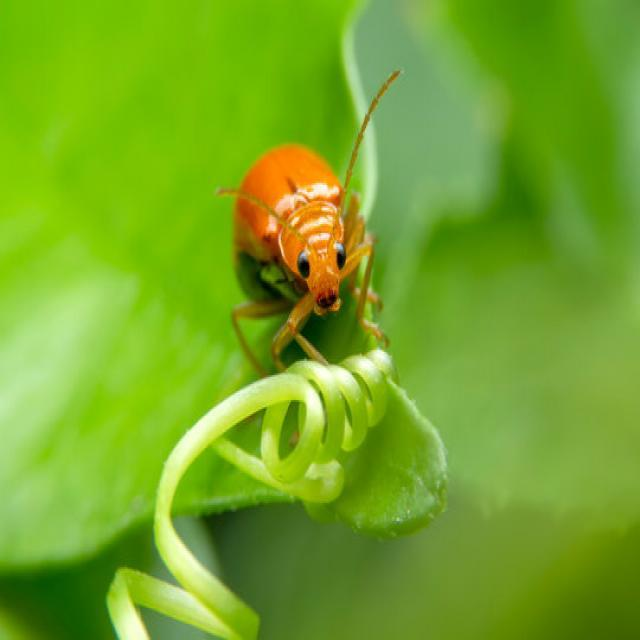Pumpkin Beetle: (212, 62, 415, 384)
